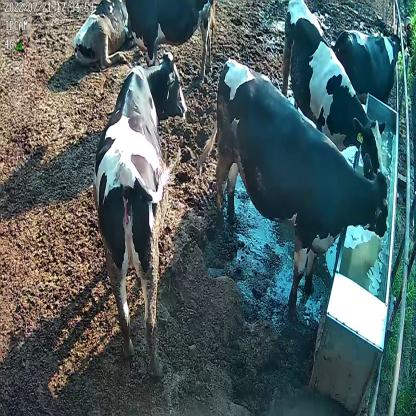cow: (213, 52, 391, 310), (93, 49, 189, 376), (280, 0, 384, 185), (336, 26, 403, 100)
